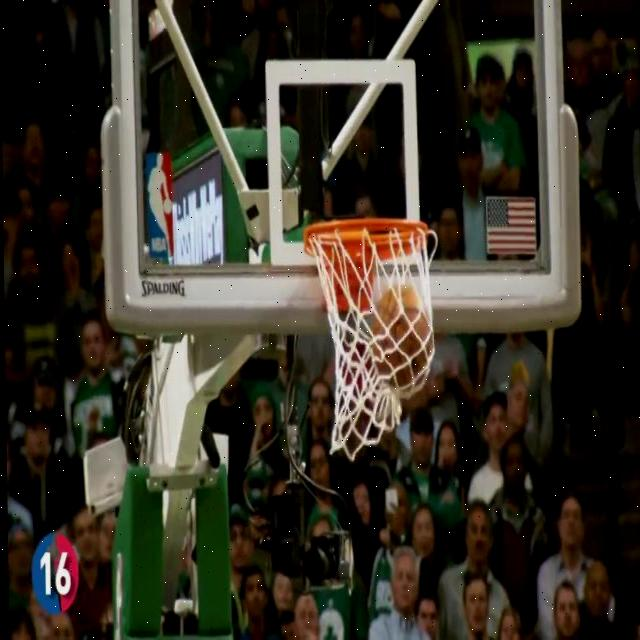Goal: (370, 286, 435, 386)
